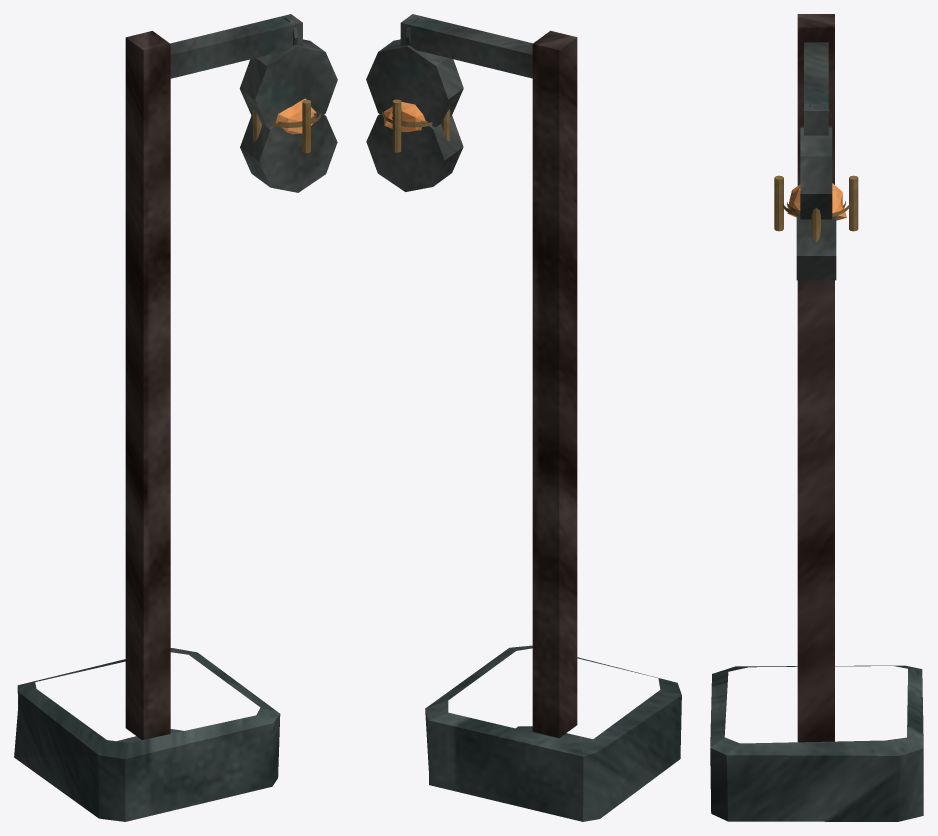
File: 0714_lantern_post_14.glb
3 renders of one model, left to right at view 1: azimuth 30°, elevation 25°; view 2: azimuth 150°, elevation 25°; view 3: azimuth 270°, elevation 25°, orthographic. The views are drawn at different scales.
Parts seen in each view (by area): view 1: wood_dark, stone_dark, iron, brass; view 2: wood_dark, stone_dark, iron, brass, amber; view 3: wood_dark, stone_dark, iron, brass, amber.
Boxes of the visible parts, x1,y1,x2,y2 form: wood_dark: (125,31,170,739); stone_dark: (14,648,280,821); iron: (170,14,337,192); brass: (253,100,321,153); wood_dark: (532,30,577,737); stone_dark: (425,645,681,821); iron: (366,14,532,191); brass: (382,99,450,152); amber: (383,102,425,131); wood_dark: (797,14,834,742); stone_dark: (710,665,923,821); iron: (796,42,836,280); brass: (774,175,858,242); amber: (787,183,846,220).
Bounding box in the file's own units: 1.31 × 3.39 × 0.8602.
5 materials, 5 textured.
